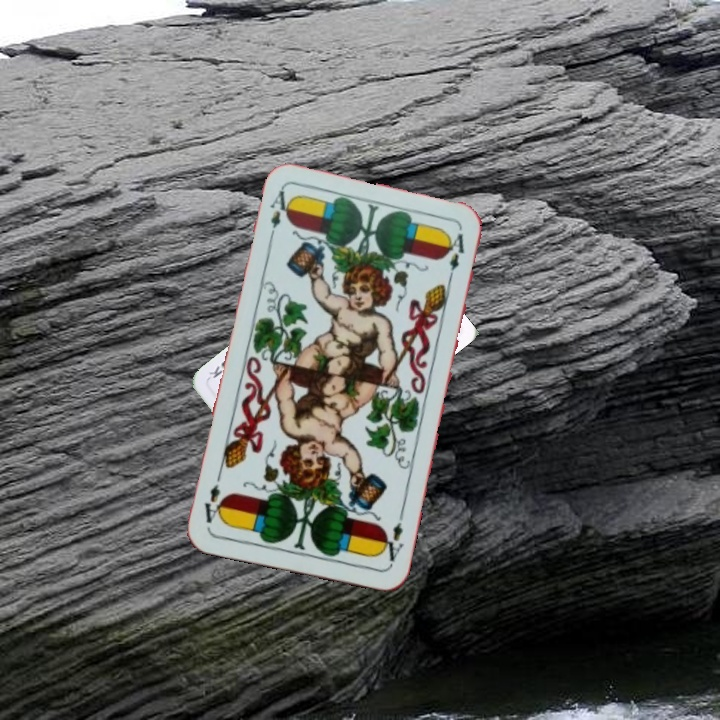EA: (377, 508, 407, 567), (264, 186, 291, 244)
